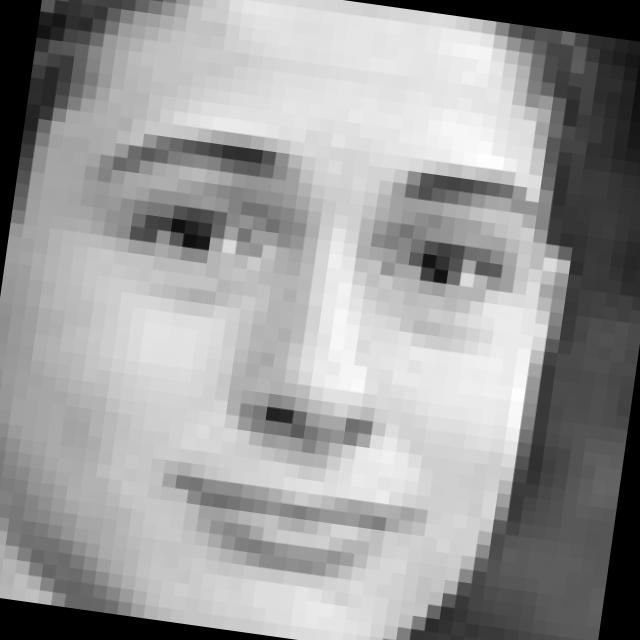neutral: (31, 113, 542, 606)
